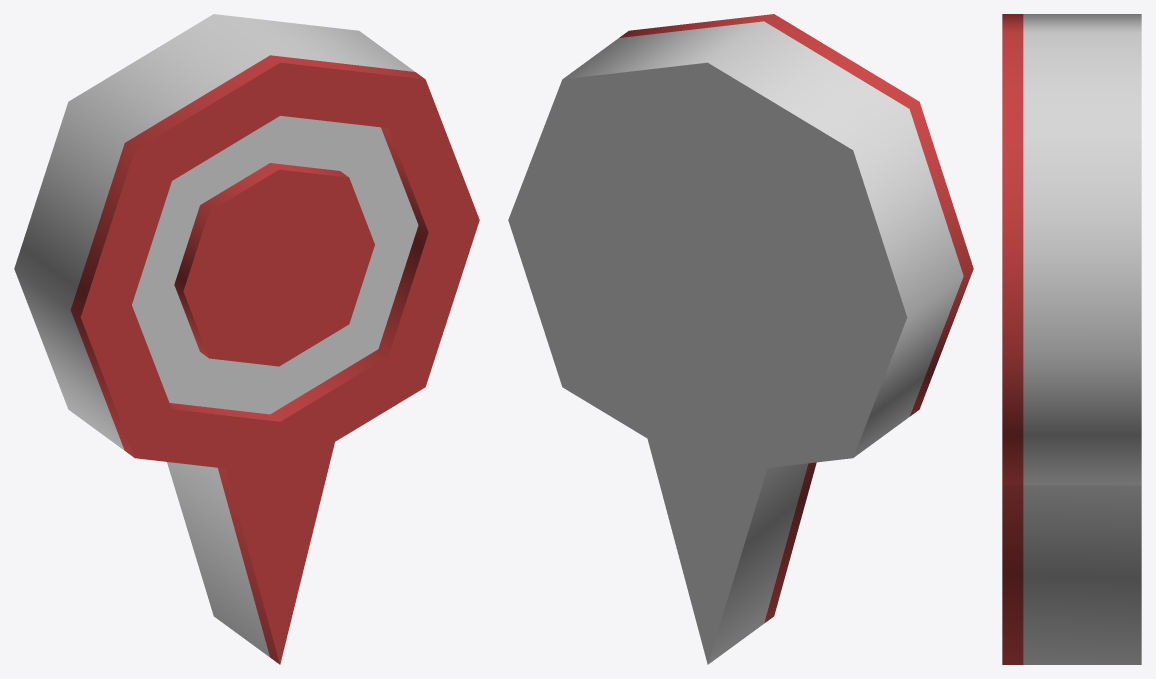
File: target.fbx
The picture shows the model from 3 angles, left to right: view 1: azimuth 30°, elevation 25°; view 2: azimuth 150°, elevation 25°; view 3: azimuth 270°, elevation 25°; orthographic projection. The views are drawn at different scales.
Parts seen in each view (by area): view 1: Cube; view 2: Cube; view 3: Cube.
Boxes of the visible parts, x1,y1,x2,y2 form: Cube: (14, 14, 479, 664); Cube: (508, 14, 973, 664); Cube: (1002, 14, 1141, 664).
Bounding box in the file's own units: 93.92 × 135 × 27.09.
